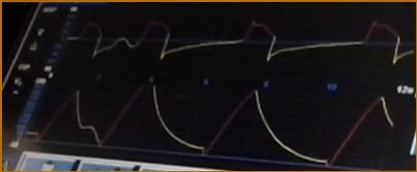Ineffective_effort Flow: (67, 10, 413, 65)
Ineffective_effort Volume: (28, 84, 393, 167)
